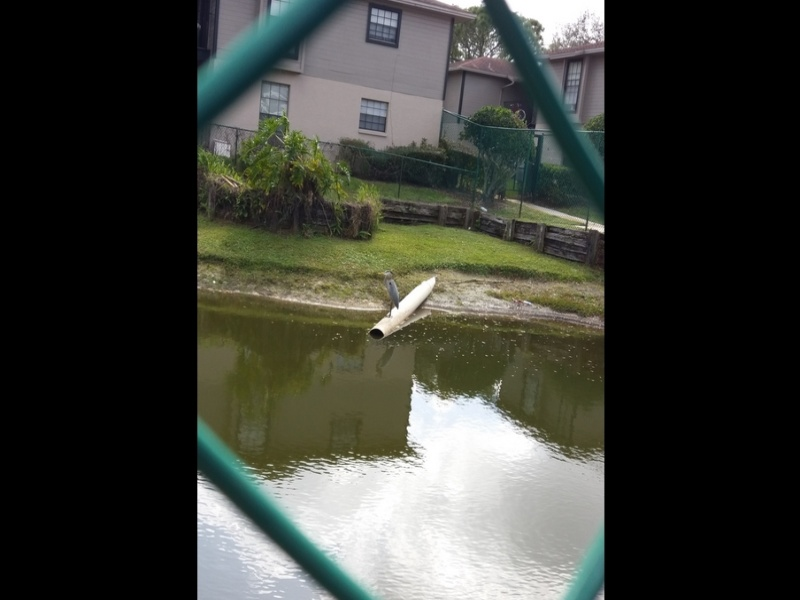heron: (380, 269, 401, 322)
